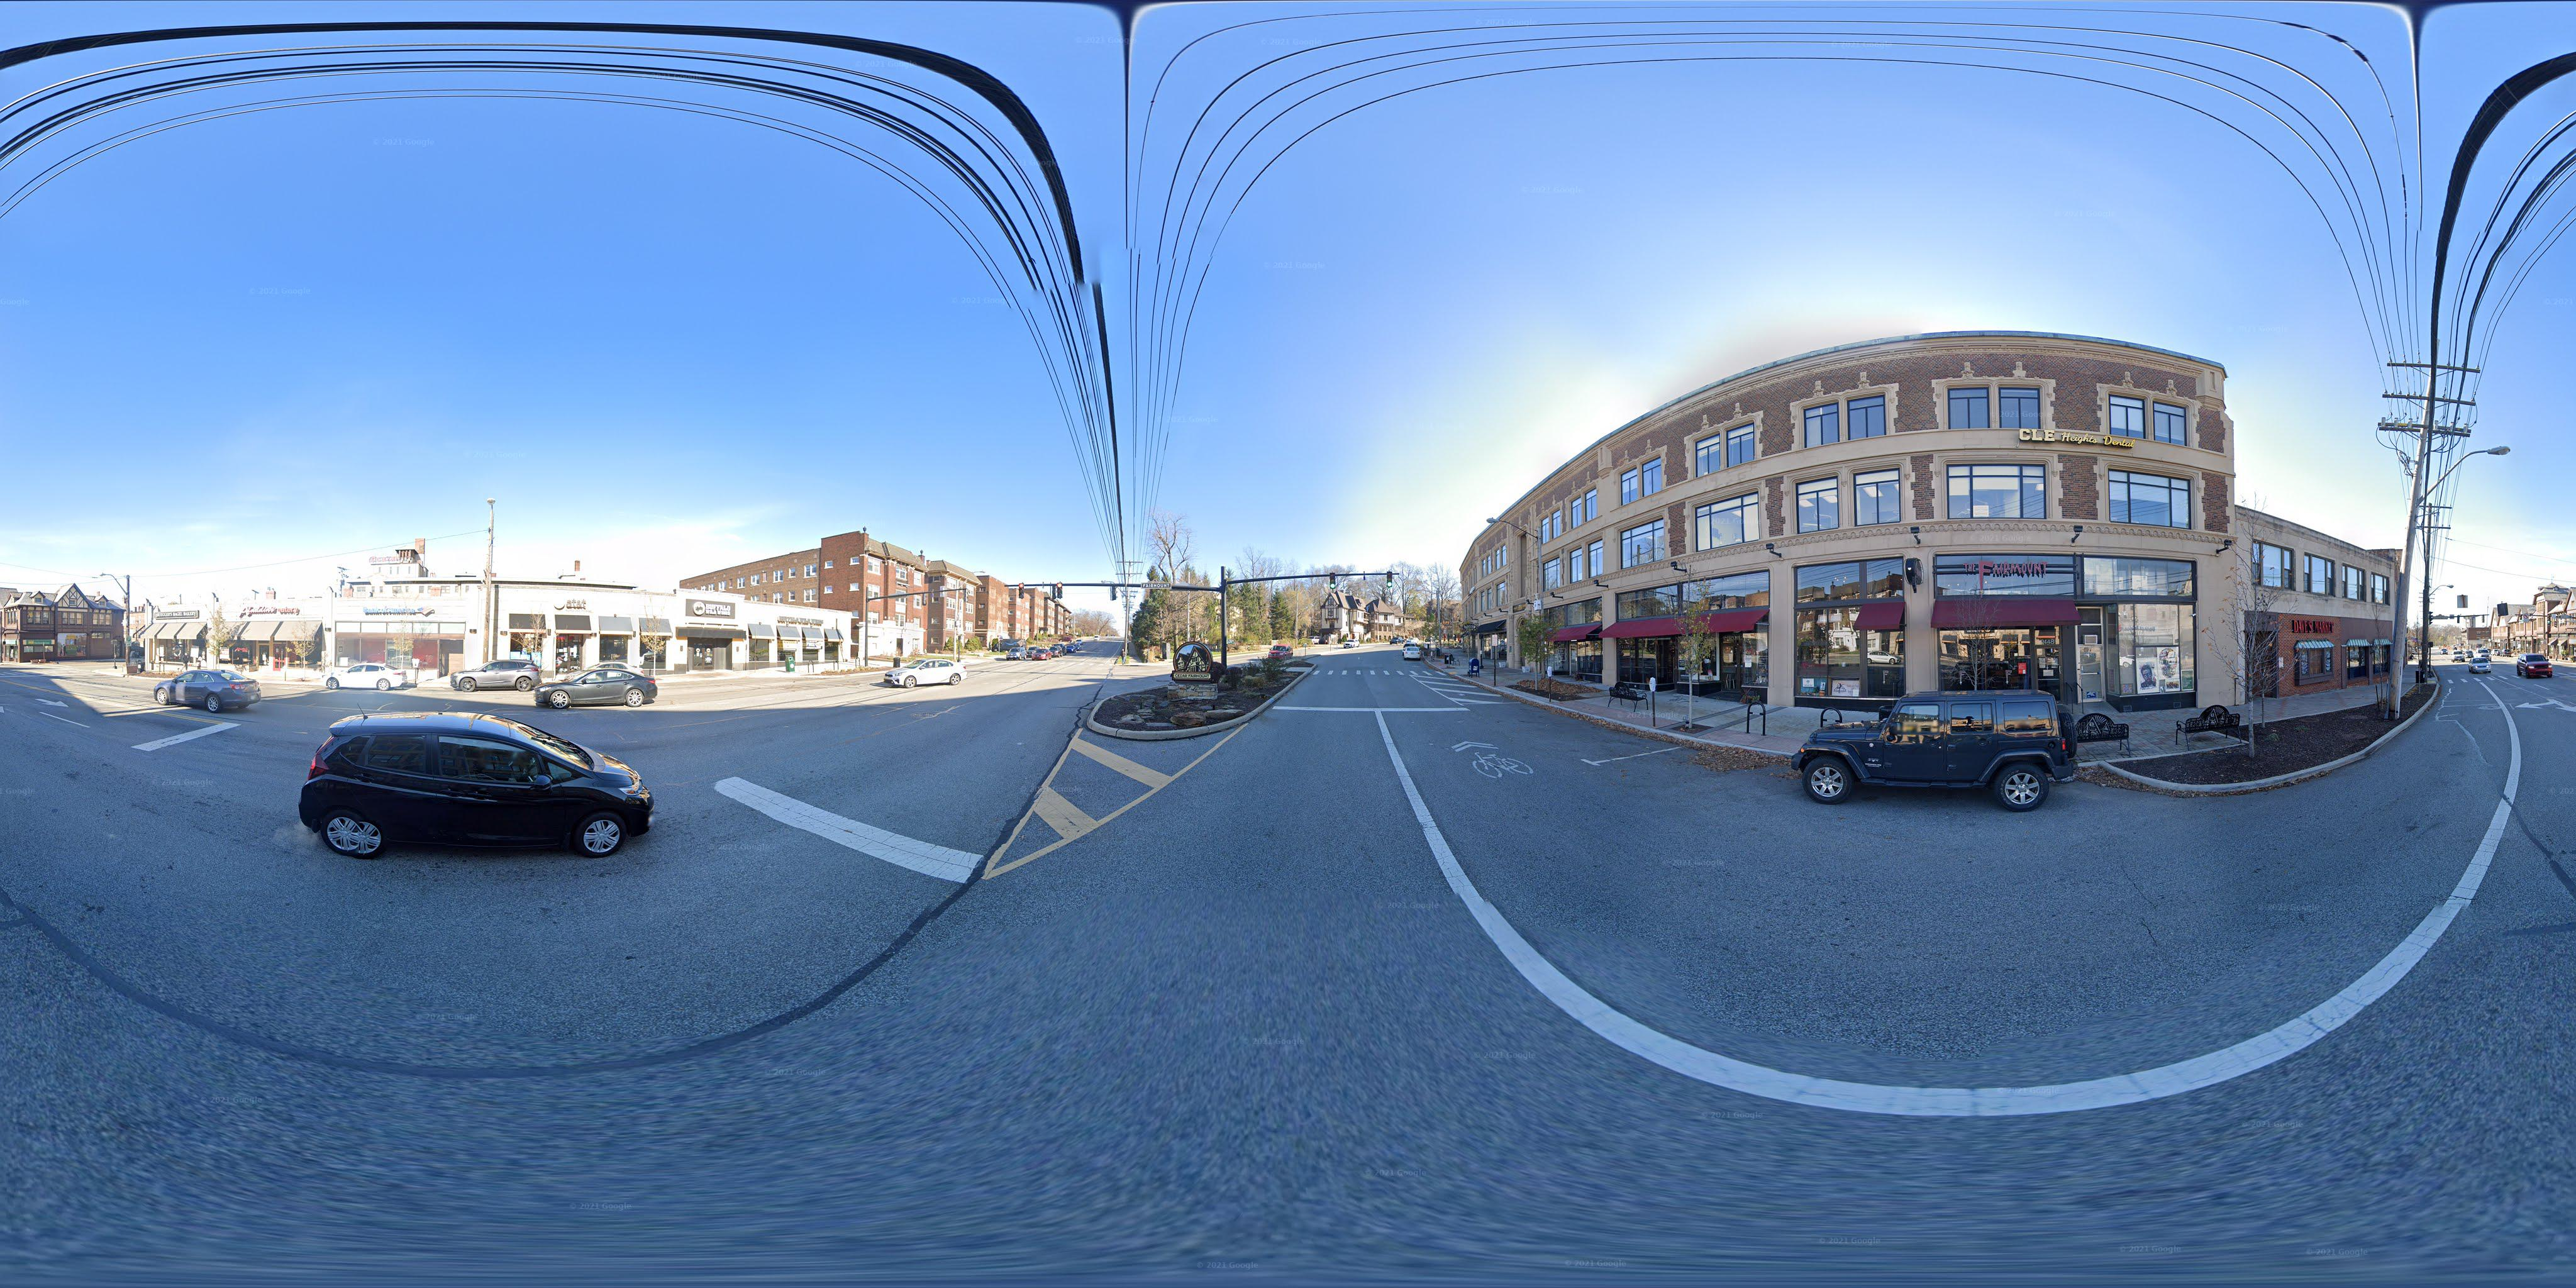Curb Ramp: (2418, 672, 2445, 690), (1441, 670, 1462, 677)
